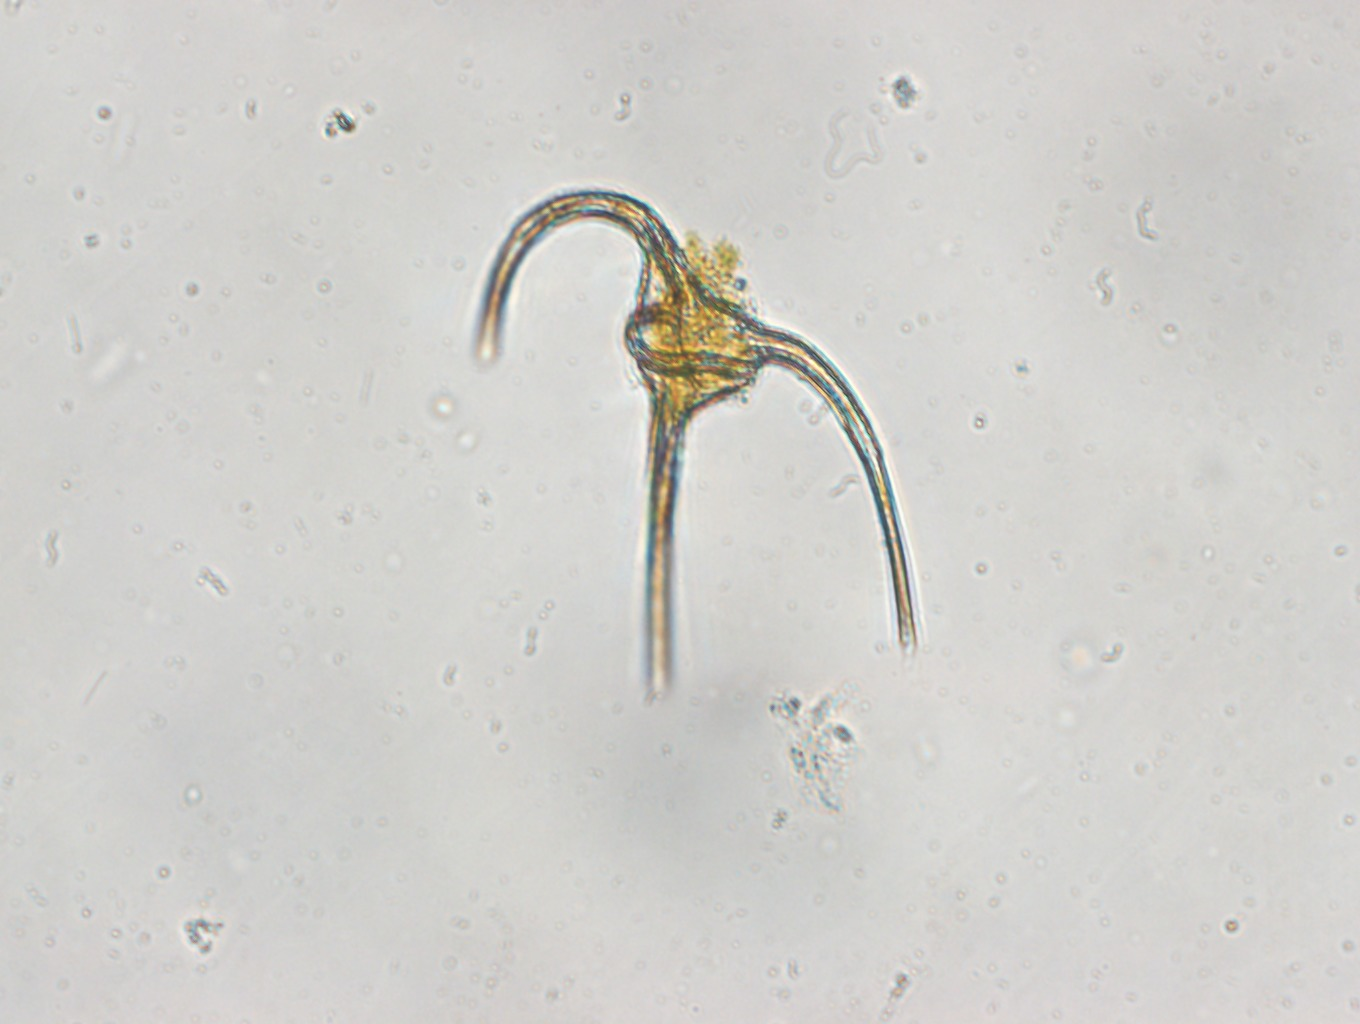ceratium trichoceros: (472, 170, 931, 709)
